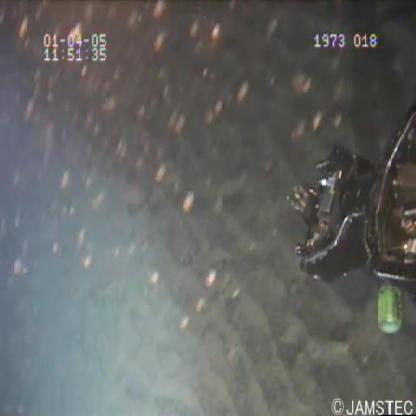Rov: (284, 93, 416, 288)
Rác: (375, 281, 406, 341)
